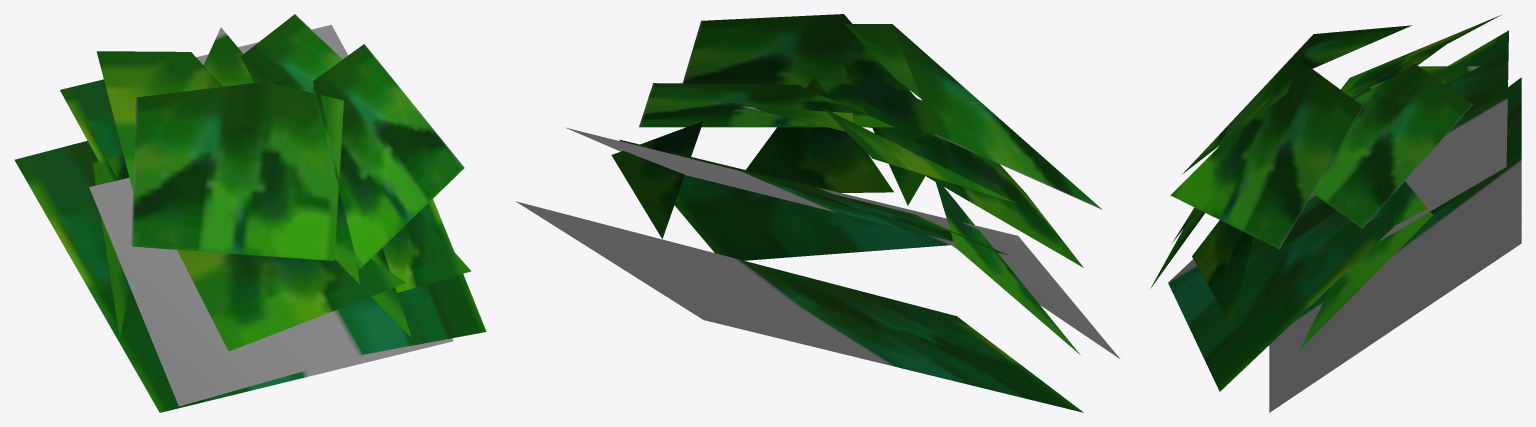
The model's file is fg_bushA_2.dae.
The picture shows the model from 3 angles, left to right: view 1: azimuth 30°, elevation 25°; view 2: azimuth 150°, elevation 25°; view 3: azimuth 270°, elevation 25°; orthographic projection. The views are drawn at different scales.
Visible parts, largest first — view 1: fg_bushA_2; view 2: fg_bushA_2; view 3: fg_bushA_2.
Part boxes in pixels (<box>): fg_bushA_2: <box>14,14,486,412</box>; fg_bushA_2: <box>515,14,1119,412</box>; fg_bushA_2: <box>1150,15,1521,412</box>.
Bounding box in the file's own units: 42.31 × 33.77 × 38.68.
Materials: 1 (1 with a texture image).
